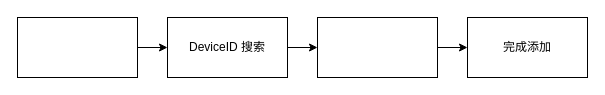
Some shapes in this 605 by 95 pixel diagram are drawn without their labels. Each missing label, with the centre of its shape:
"创建设备监控" belongs at point 77,47.
"选择设备分类" belongs at point 377,47.
